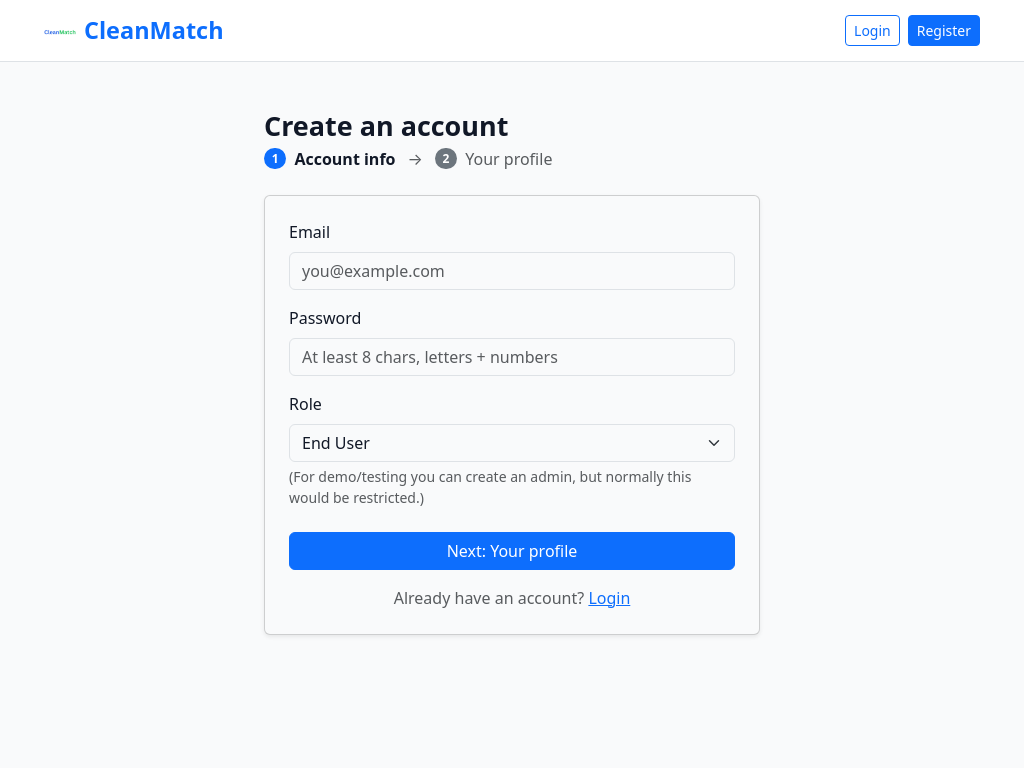
Test: RegisterPage – step 2 › shows error when first name is missing
Type "user@test.com" into the field at (512, 270), box [289,252,735,290]
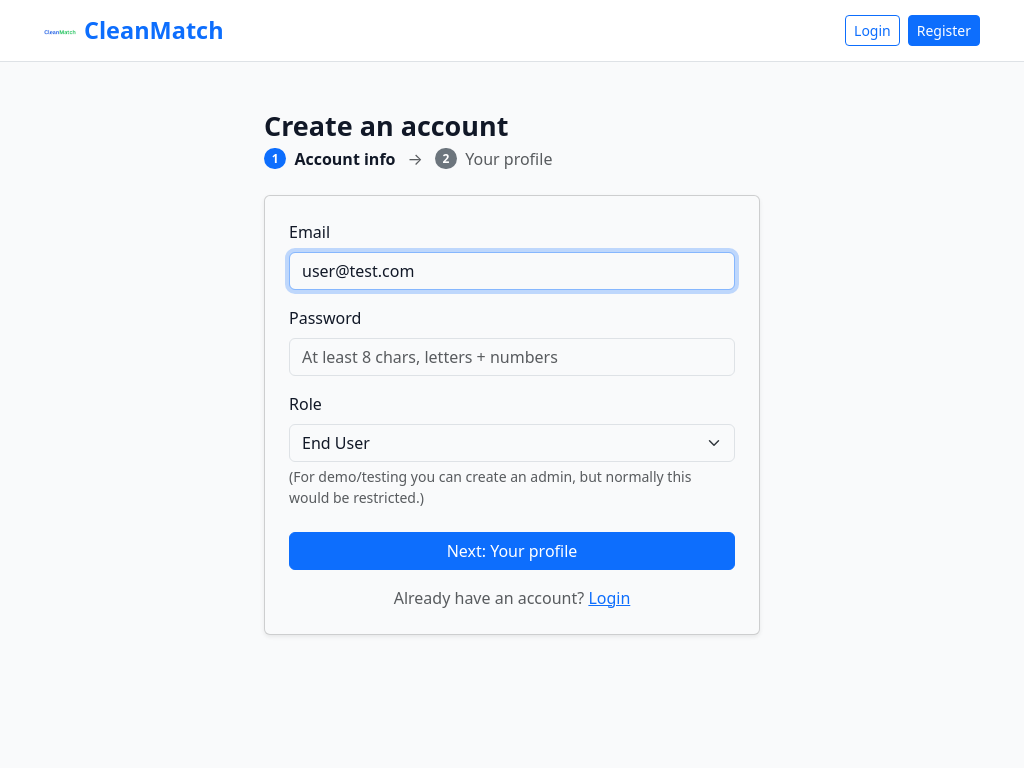
Type "Password1" into the password field with placeholder "At least 8 chars, letters + numbers" at (512, 356), box [289,338,735,376]
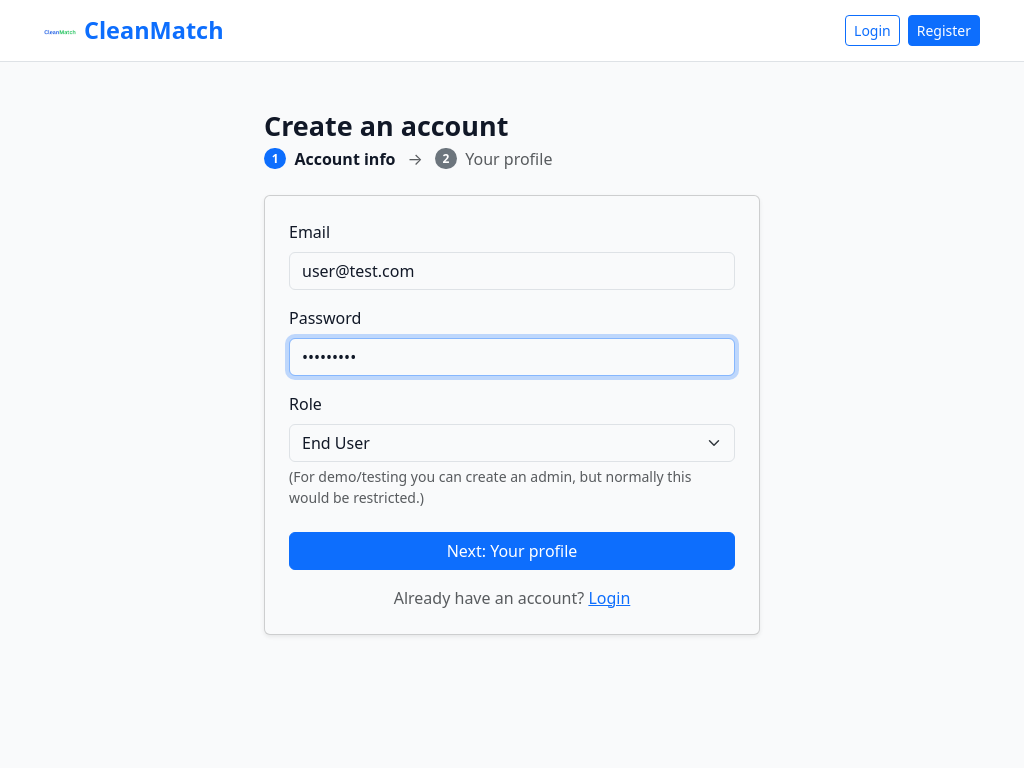
Click the button "Next: Your profile" at (512, 550), box [289,532,735,570]
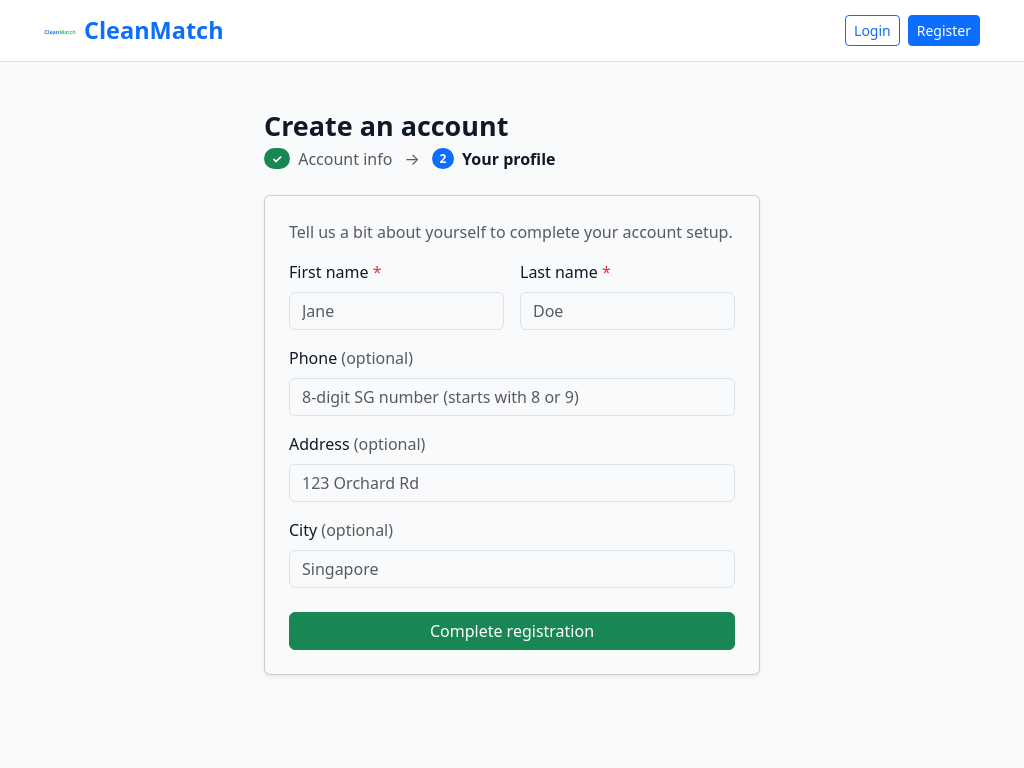
Result: the text "Tell us a bit about yourself to complete your account setup." is shown at [289,220,735,244]
Submit the form, box [264,194,760,674]
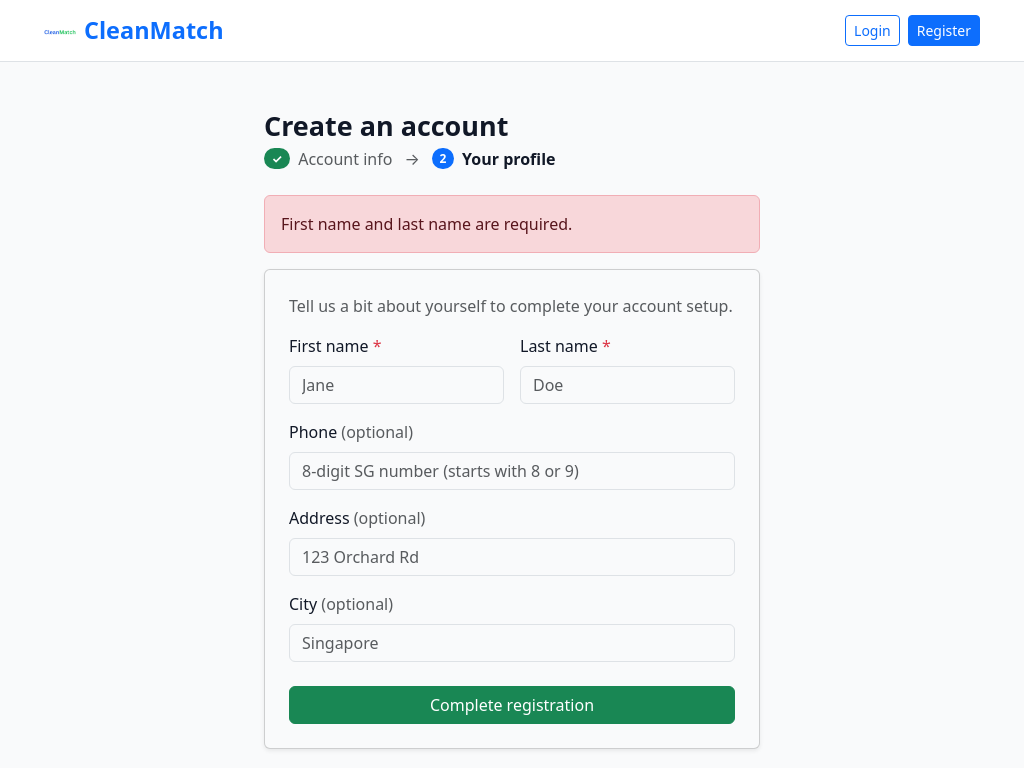
Result: the text "First name and last name are required." is shown at [264,194,760,252]
